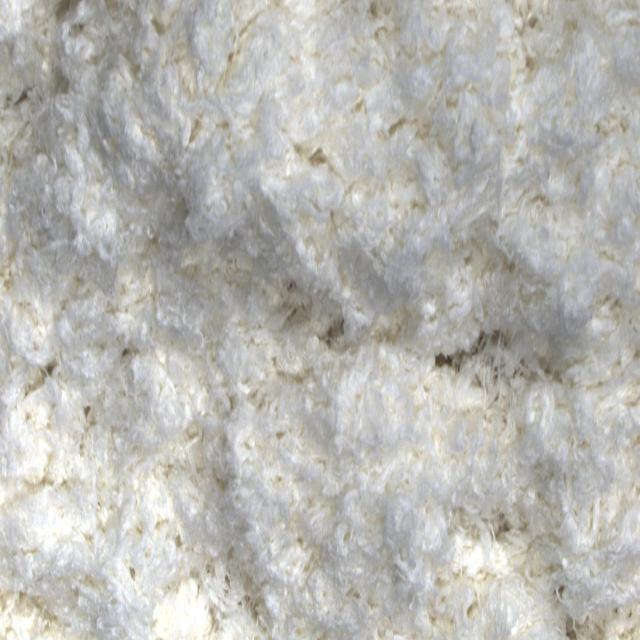dust: (435, 345, 472, 380)
